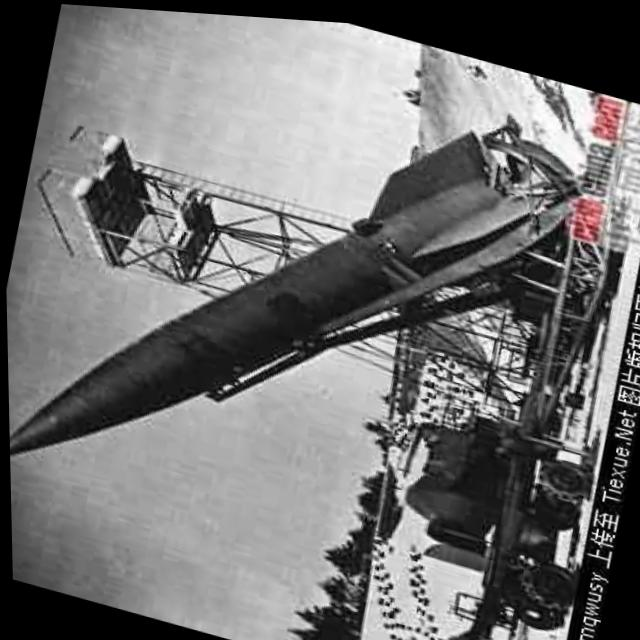missile: (0, 10, 592, 601)
